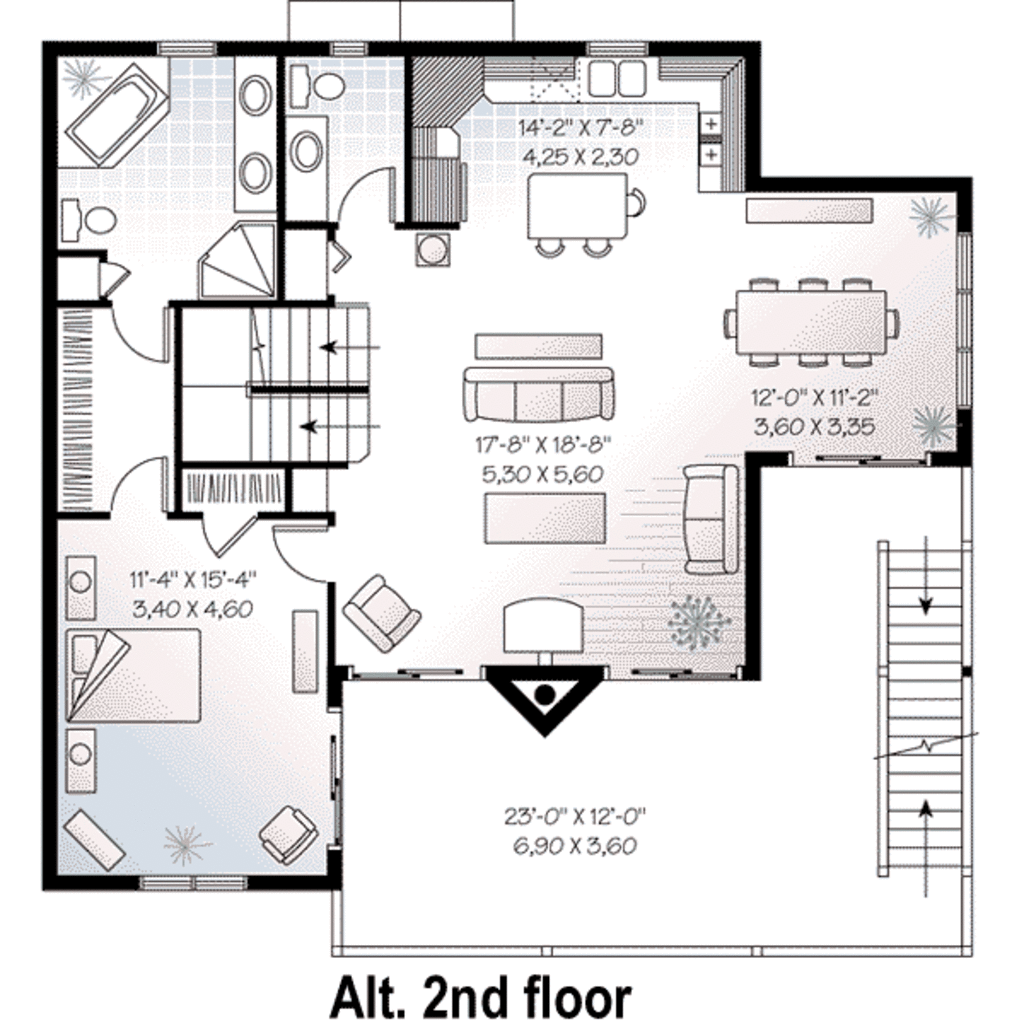bed: (61, 626, 208, 729)
dining_table: (716, 276, 903, 373)
door: (103, 448, 175, 518), (109, 303, 170, 371), (272, 520, 330, 591), (335, 167, 397, 230), (202, 513, 259, 557)
kitchen_bar: (524, 168, 647, 262)
large_sink: (54, 194, 121, 251), (287, 56, 351, 114)
large_sofa: (458, 362, 620, 426), (677, 459, 742, 582)
small_sink: (233, 51, 281, 216), (285, 113, 325, 225)
small_sofa: (338, 573, 426, 657), (254, 799, 323, 864)
stairs: (174, 305, 380, 471), (872, 539, 967, 897)
tub: (71, 62, 170, 164)
twin_sink: (587, 58, 651, 105)
windows: (952, 226, 980, 417), (129, 869, 246, 897)
